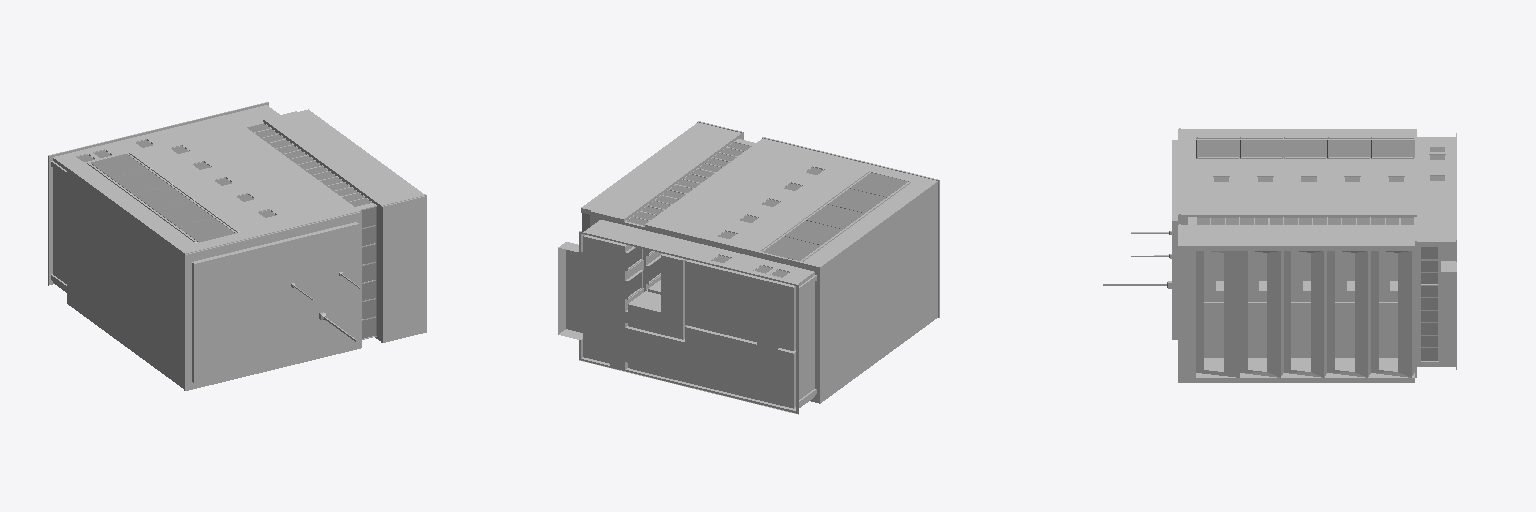
The model's file is Building3.obj.
The picture shows the model from 3 angles: view 1: azimuth 30°, elevation 25°; view 2: azimuth 150°, elevation 25°; view 3: azimuth 270°, elevation 25°; orthographic projection.
Visible parts, largest first — view 1: Residential_Buildings_003_Cube.011; view 2: Residential_Buildings_003_Cube.011; view 3: Residential_Buildings_003_Cube.011.
Part boxes in pixels (left/top/right/bottom): Residential_Buildings_003_Cube.011: left=48, top=102, right=426, bottom=390; Residential_Buildings_003_Cube.011: left=558, top=121, right=939, bottom=414; Residential_Buildings_003_Cube.011: left=1103, top=128, right=1456, bottom=382.
Size of the model in its own units: 23.1 by 12.59 by 29.19.